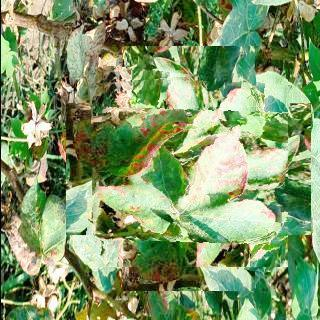blight: (89, 70, 287, 268)
